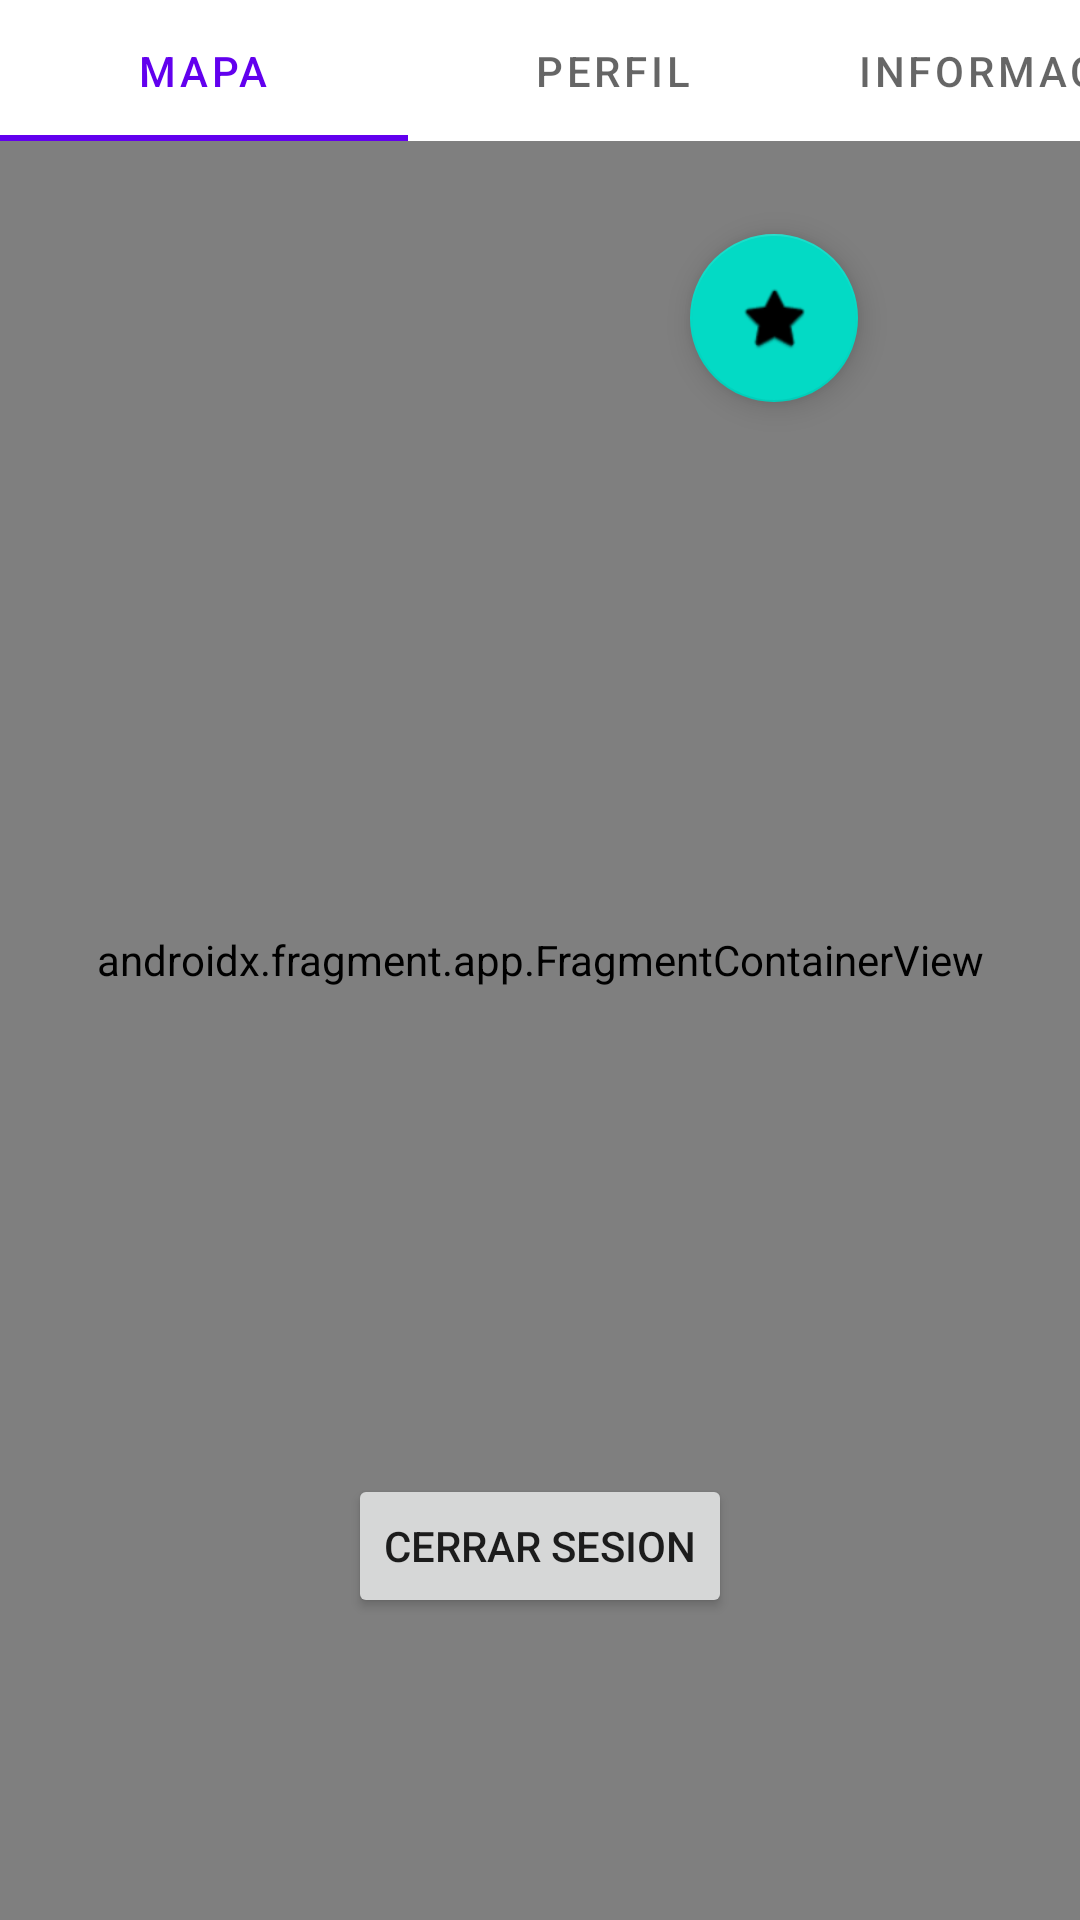

Named icons in this screenshot (1080px x 1920px) and their centers, (x,y):
star on: (774,318)
